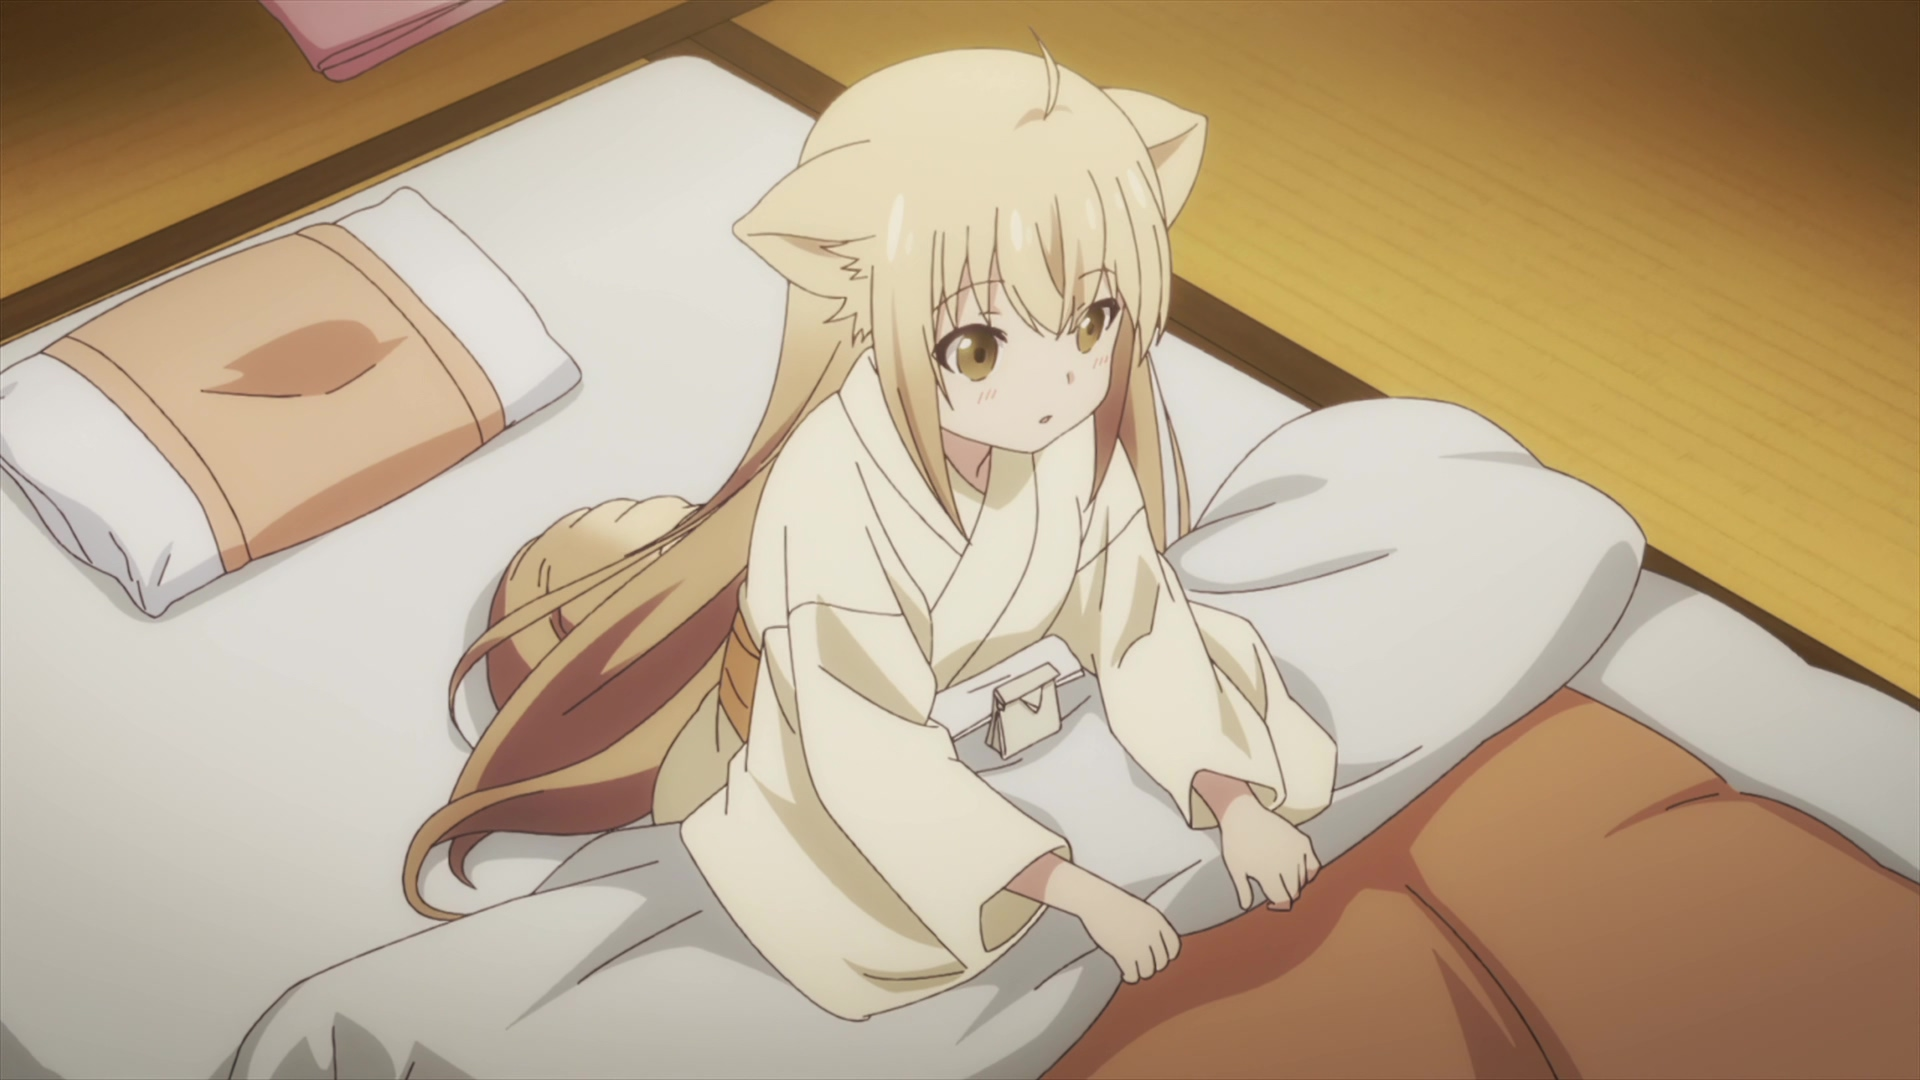柚: (404, 28, 1338, 1021)
